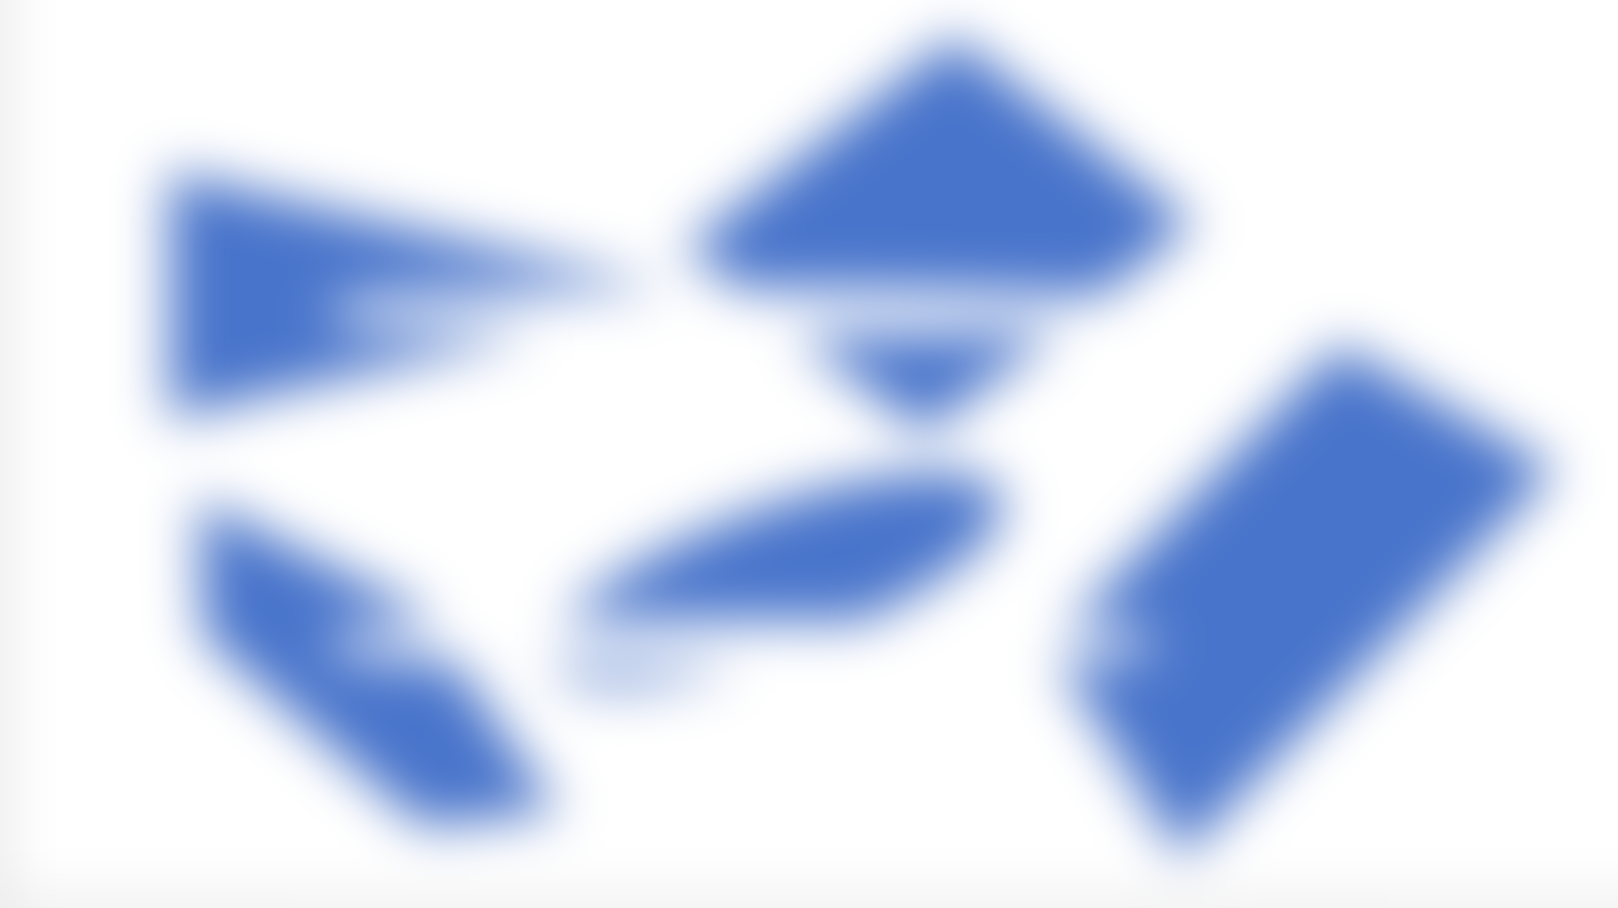circle: (563, 467, 1018, 705)
parallelogram: (696, 32, 1198, 426)
pentagon: (121, 483, 598, 876)
trapezium: (1033, 351, 1589, 870)
triangle: (129, 169, 643, 417)
